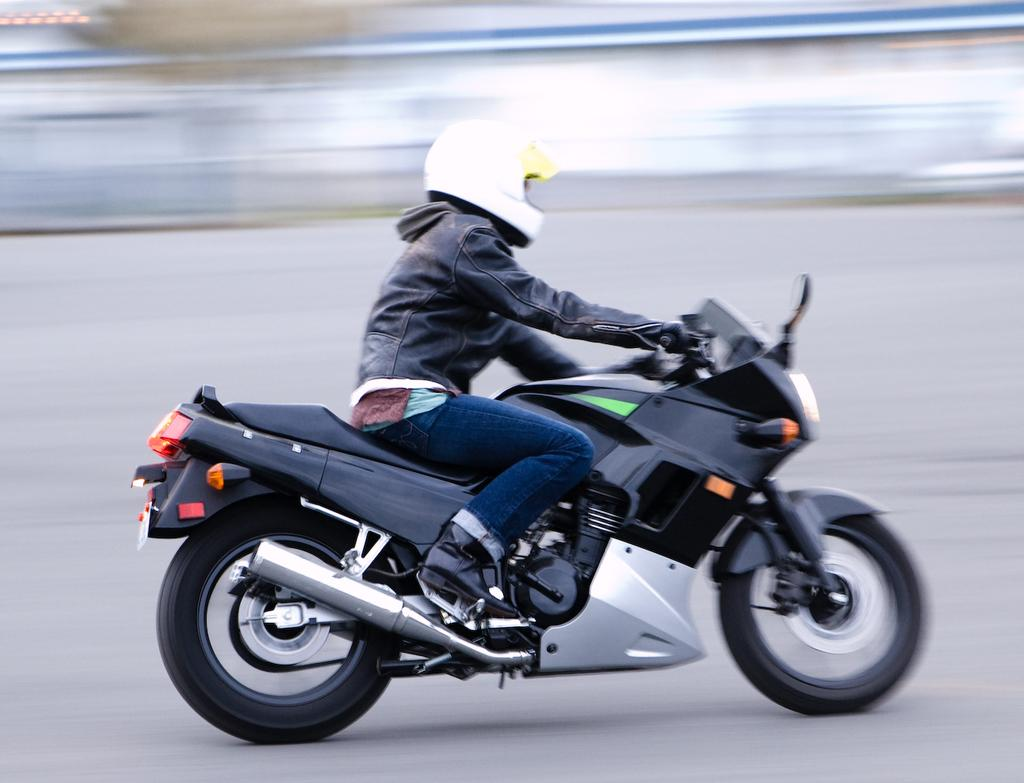helmet: (423, 119, 560, 249)
